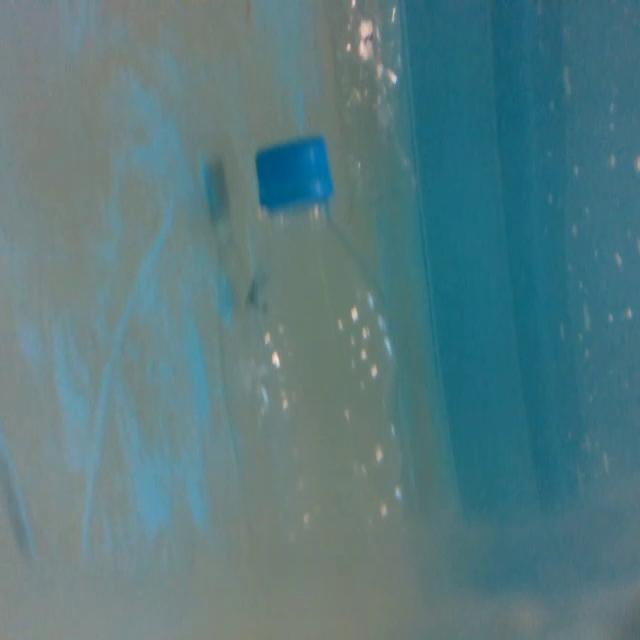plastic bottle: (219, 132, 424, 546)
